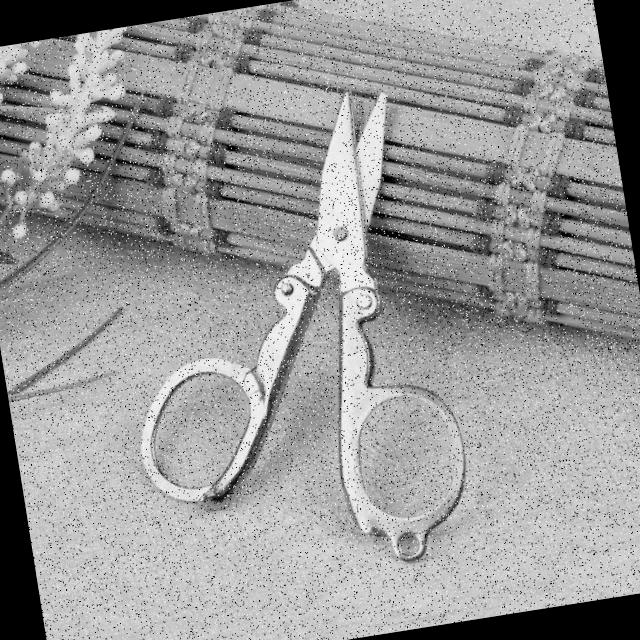scissors: (84, 70, 489, 605)
